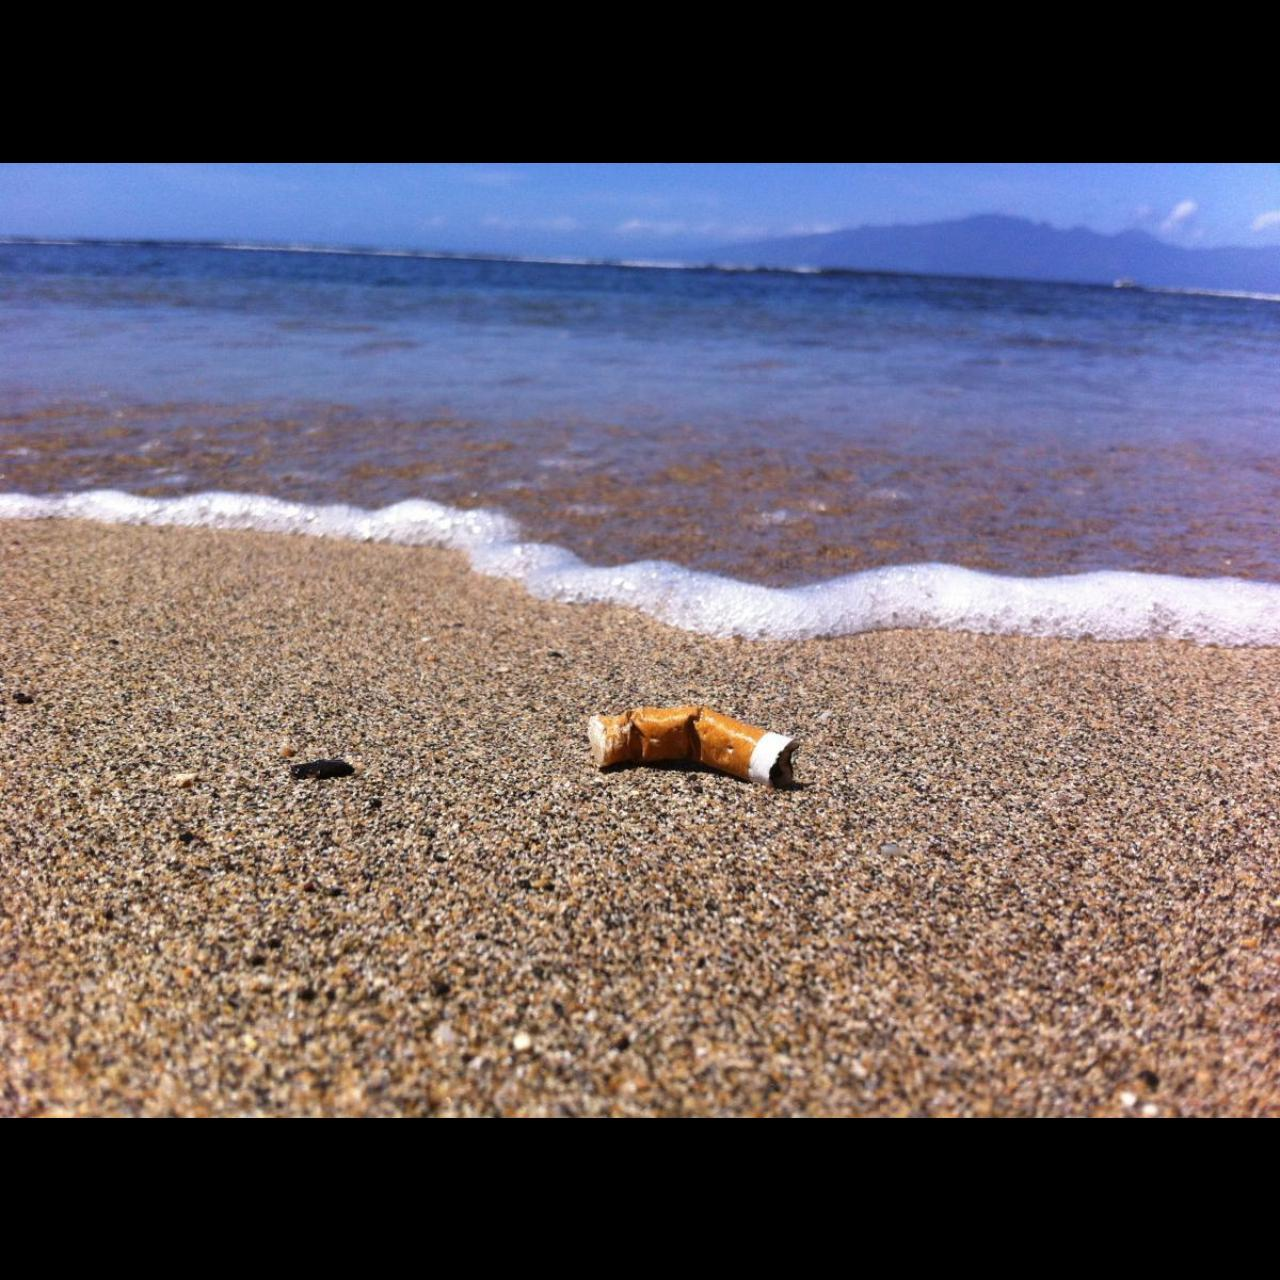cigarettes_butts: (587, 707, 799, 785)
